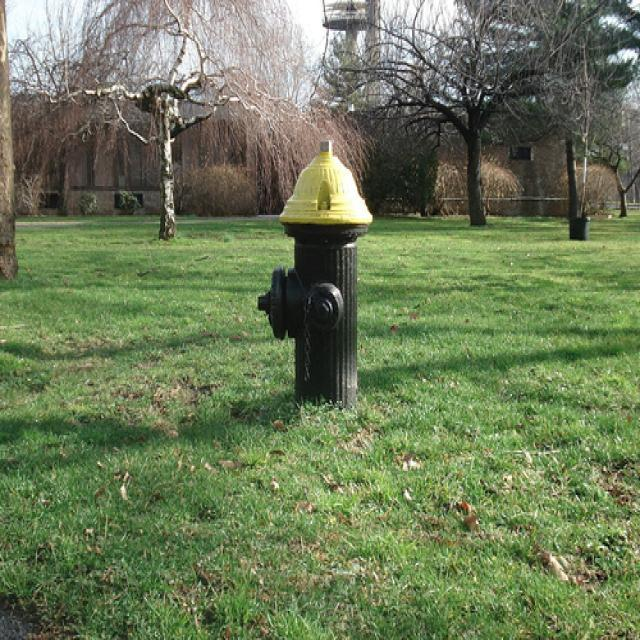fire_hydrant: (253, 133, 370, 408)
